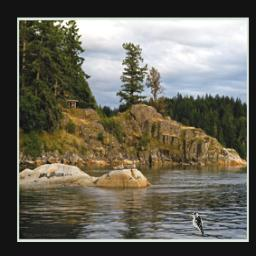Woodpecker: (188, 212, 204, 236)
